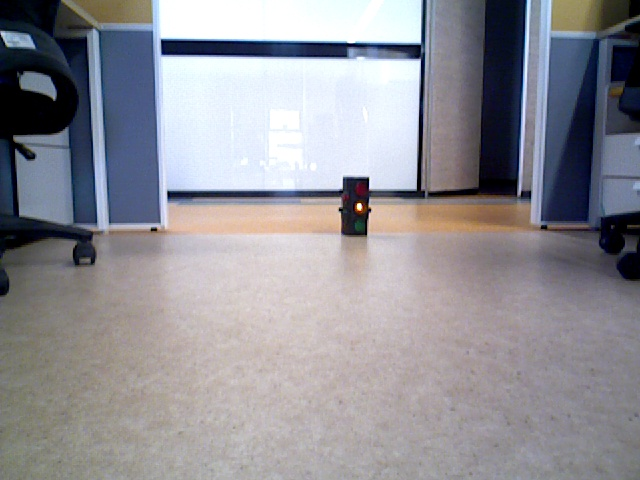yellow: (341, 177, 365, 236)
